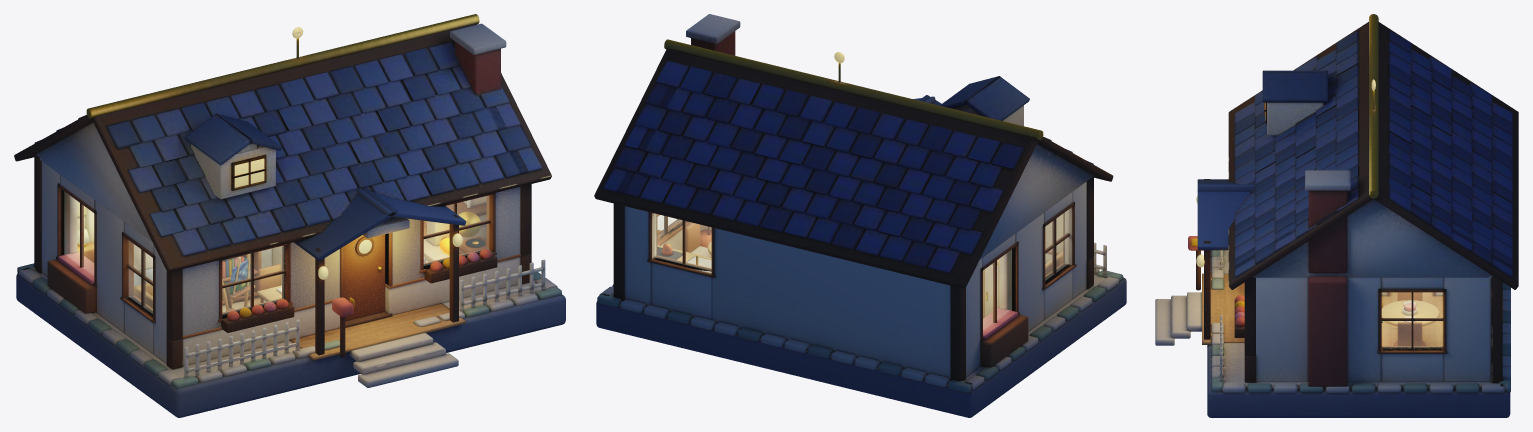
File: storybook_cottage.glb
3 views of the same model, side by side, from view 1: azimuth 30°, elevation 25°; view 2: azimuth 150°, elevation 25°; view 3: azimuth 270°, elevation 25° (orthographic). The views are drawn at different scales.
Parts seen in each view (by area): view 1: VillaRoofBaked, VillaShellBaked, VillaFrontUpperBaked, VillaFurnitureBaked, GlassFrontStudio, GlassFrontLiving, GlassBayMaster, GlassStudioSide; view 2: VillaRoofBaked, VillaShellBaked, VillaFurnitureBaked, GlassKitchenBack, GlassBayMaster, VillaFrontUpperBaked, GlassStudioSide; view 3: VillaRoofBaked, VillaShellBaked, VillaFrontUpperBaked, GlassDiningSide, VillaFurnitureBaked.
Boxes of the visible parts, bbox=[...] form: VillaRoofBaked: bbox=[14, 14, 551, 272]; VillaShellBaked: bbox=[16, 155, 565, 417]; VillaFrontUpperBaked: bbox=[166, 184, 531, 355]; VillaFurnitureBaked: bbox=[58, 195, 486, 312]; GlassFrontStudio: bbox=[222, 246, 283, 314]; GlassFrontLiving: bbox=[424, 196, 488, 265]; GlassBayMaster: bbox=[64, 192, 93, 274]; GlassStudioSide: bbox=[129, 241, 152, 313]; VillaRoofBaked: bbox=[594, 14, 1113, 288]; VillaShellBaked: bbox=[596, 182, 1126, 417]; VillaFurnitureBaked: bbox=[657, 214, 1063, 339]; GlassKitchenBack: bbox=[655, 214, 711, 270]; GlassBayMaster: bbox=[983, 250, 1011, 330]; VillaFrontUpperBaked: bbox=[913, 95, 1093, 261]; GlassStudioSide: bbox=[1045, 210, 1068, 280]; VillaRoofBaked: bbox=[1228, 14, 1518, 289]; VillaShellBaked: bbox=[1155, 236, 1510, 417]; VillaFrontUpperBaked: bbox=[1196, 179, 1255, 355]; GlassDiningSide: bbox=[1383, 292, 1441, 347]; VillaFurnitureBaked: bbox=[1381, 292, 1439, 346].
Size of the model in its own units: 4.76 by 3.23 by 4.13.
8 materials, 4 textured.
